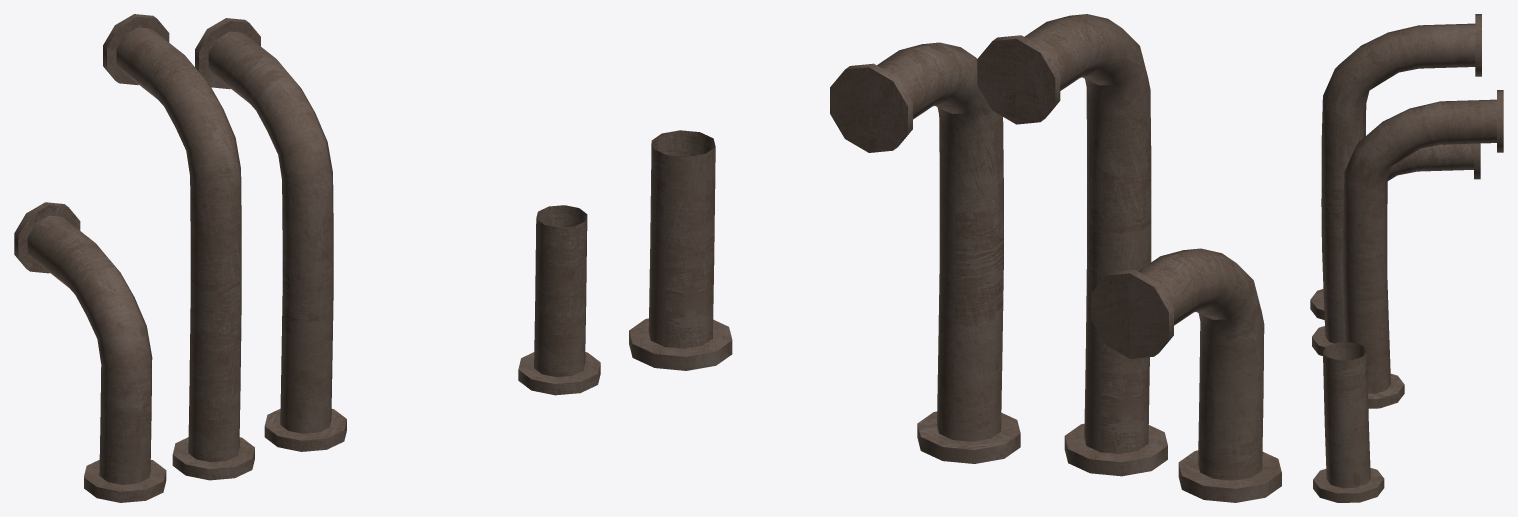
File: pipes.fbx
3 views of the same model, side by side, from view 1: azimuth 30°, elevation 25°; view 2: azimuth 150°, elevation 25°; view 3: azimuth 270°, elevation 25° (orthographic). The views are drawn at different scales.
Visible parts, largest first — view 1: pipe_big_3, pipe_big_3.002, pipe_big_3.001, pipe_big_3.003; view 2: pipe_big_3.002, pipe_big_3, pipe_big_3.001, pipe_big_3.003; view 3: pipe_big_3.002, pipe_big_3, pipe_big_3.003, pipe_big_3.001.
Boxes of the visible parts, x1,y1,x2,y2 form: pipe_big_3: (103,14,254,480); pipe_big_3.002: (195,18,346,451); pipe_big_3.001: (14,202,166,502); pipe_big_3.003: (518,205,600,395); pipe_big_3.002: (830,42,1020,463); pipe_big_3: (977,14,1167,476); pipe_big_3.001: (1091,248,1281,502); pipe_big_3.003: (629,130,732,370); pipe_big_3.002: (1343,90,1503,408); pipe_big_3: (1312,14,1481,355); pipe_big_3.003: (1313,342,1384,502); pipe_big_3.001: (1310,143,1480,319).
Bounding box in the file's own units: 245 × 184 × 96.05.
